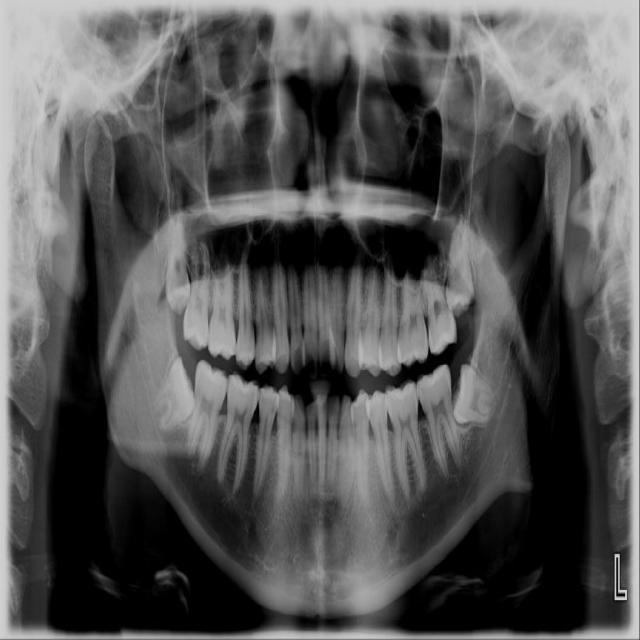3M ESPE Implant: (165, 212, 190, 316)
73: (612, 564, 618, 572)
BioHorizons Implant: (419, 240, 459, 356)
BioLife Implant: (439, 214, 476, 318)
Biomet 3i Implant: (446, 363, 506, 433)
Blue Sky Bio Implant: (413, 364, 465, 483)
Caries: (182, 236, 212, 350)
Implant: (183, 358, 231, 477)
Keystone Dental Implant: (141, 355, 214, 439)
